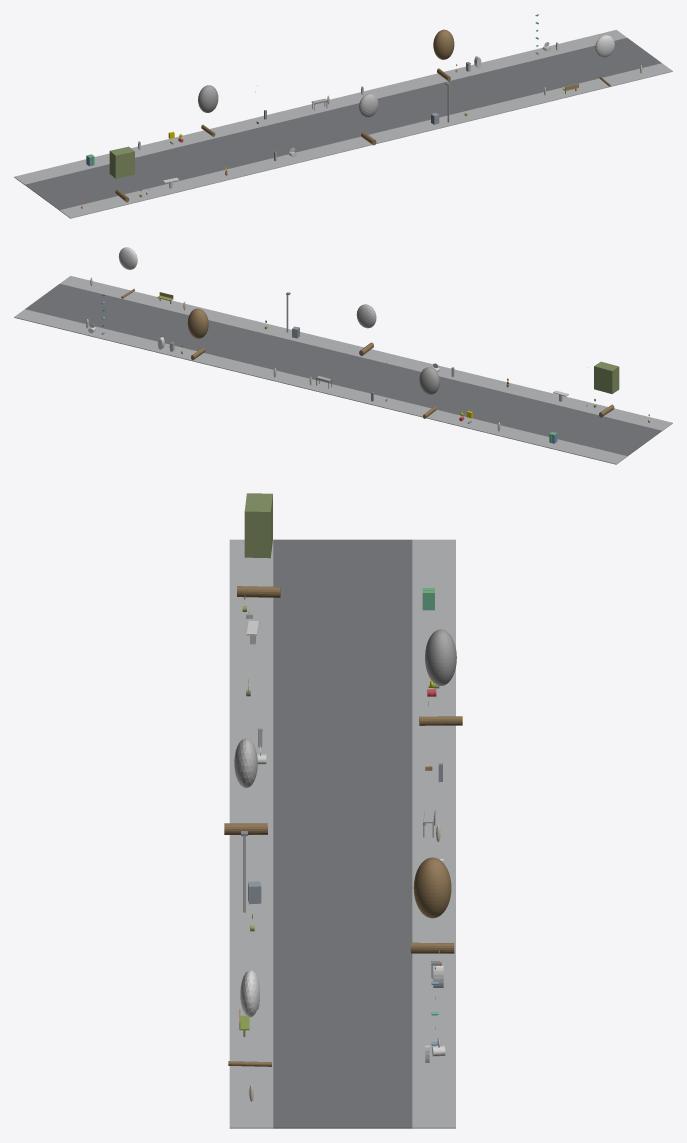
3 views of the same model, one above another, from view 1: azimuth 30°, elevation 25°; view 2: azimuth 150°, elevation 25°; view 3: azimuth 270°, elevation 25° (orthographic). The views are drawn at different scales.
Visible parts, largest first — view 1: road_slab, sidewalk_left, sidewalk_right, inst_0012, inst_0015, inst_0013, inst_0014, inst_0016; view 2: road_slab, sidewalk_right, sidewalk_left, inst_0012, inst_0015, inst_0013, inst_0014, inst_0016; view 3: road_slab, sidewalk_left, sidewalk_right, inst_0012, inst_0015, inst_0013, inst_0014, inst_0016.
Part boxes in pixels (x1=…): road_slab: x1=25, y1=38, x2=661, y2=210; sidewalk_left: x1=59, y1=63, x2=672, y2=218; sidewalk_right: x1=14, y1=30, x2=626, y2=184; inst_0012: x1=109, y1=146, x2=134, y2=202; inst_0015: x1=433, y1=29, x2=454, y2=81; inst_0013: x1=198, y1=85, x2=218, y2=136; inst_0014: x1=359, y1=93, x2=378, y2=145; inst_0016: x1=595, y1=35, x2=614, y2=86; road_slab: x1=25, y1=284, x2=661, y2=456; sidewalk_right: x1=14, y1=309, x2=627, y2=464; sidewalk_left: x1=60, y1=276, x2=672, y2=430; inst_0012: x1=594, y1=361, x2=619, y2=417; inst_0015: x1=187, y1=308, x2=208, y2=360; inst_0013: x1=419, y1=367, x2=439, y2=418; inst_0014: x1=356, y1=304, x2=376, y2=355; inst_0016: x1=118, y1=247, x2=137, y2=298; road_slab: x1=273, y1=539, x2=412, y2=1128; sidewalk_left: x1=229, y1=539, x2=273, y2=1128; sidewalk_right: x1=412, y1=539, x2=455, y2=1128; inst_0012: x1=237, y1=493, x2=280, y2=597; inst_0015: x1=410, y1=857, x2=454, y2=953; inst_0013: x1=419, y1=629, x2=462, y2=725; inst_0014: x1=224, y1=738, x2=267, y2=834; inst_0016: x1=228, y1=970, x2=271, y2=1066.
Bounding box in the file's own units: 80 × 6.08 × 13.71.
